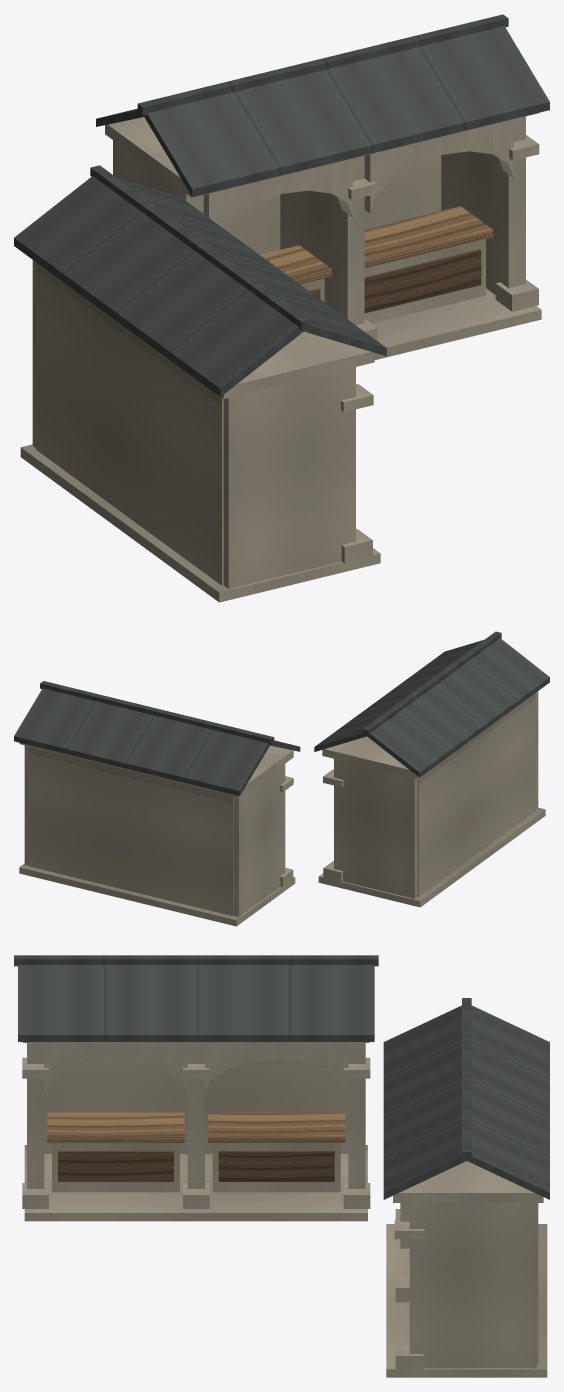
The model's file is maputo.glb.
3 renders of one model, top to bottom at view 1: azimuth 30°, elevation 25°; view 2: azimuth 150°, elevation 25°; view 3: azimuth 270°, elevation 25°, orthographic. The views are drawn at different scales.
Visible parts, largest first — view 1: maputo; view 2: maputo; view 3: maputo.
Part boxes in pixels (box(x1,y1,x2,y2)): maputo: box(14, 14, 549, 602); maputo: box(14, 631, 549, 926); maputo: box(14, 955, 549, 1377).
Size of the model in its own units: 5.35 by 2.5 by 5.27.
Materials: 1 (1 with a texture image).
